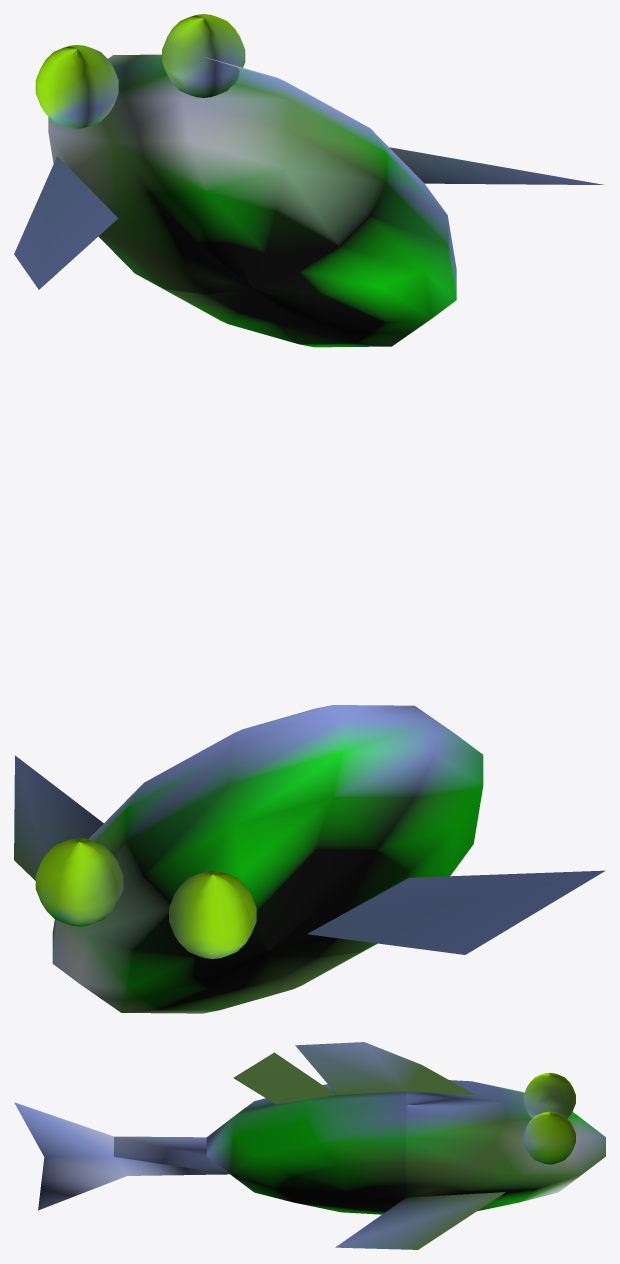
File: blurpo.glb
3 renders of one model, top to bottom at view 1: azimuth 30°, elevation 25°; view 2: azimuth 150°, elevation 25°; view 3: azimuth 270°, elevation 25°, orthographic. The views are drawn at different scales.
Parts seen in each view (by area): view 1: Blurpo; view 2: Blurpo; view 3: Blurpo.
Part boxes in pixels (<box>): Blurpo: <box>14,14,603,347</box>; Blurpo: <box>14,705,605,1013</box>; Blurpo: <box>14,1042,605,1249</box>.
Bounding box in the file's own units: 1.33 × 0.6016 × 1.91.
